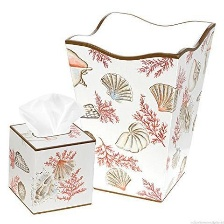plastic_box: (59, 6, 221, 207), (2, 115, 101, 217)
tissue: (14, 86, 91, 140)
